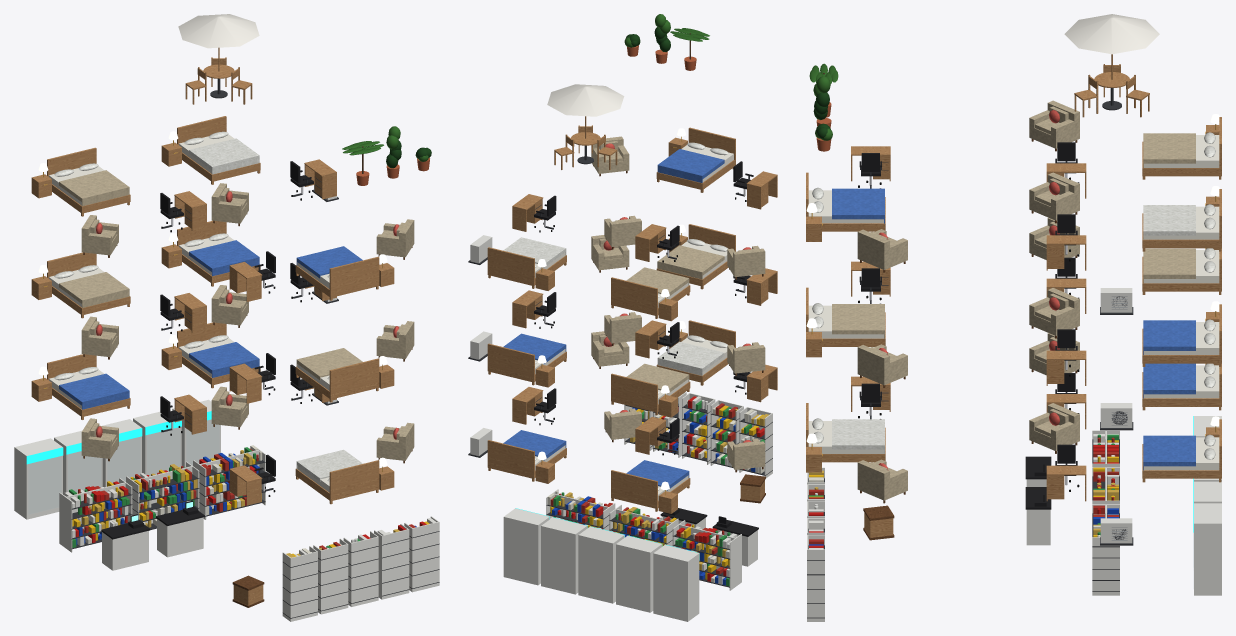
Rendered from i_kr_mart_gosiwon.gltf.
3 renders of one model, left to right at view 1: azimuth 30°, elevation 25°; view 2: azimuth 150°, elevation 25°; view 3: azimuth 270°, elevation 25°, orthographic. The views are drawn at different scales.
Parts seen in each view (by area): view 1: I_kr_mart_gosiwon; view 2: I_kr_mart_gosiwon; view 3: I_kr_mart_gosiwon.
Part boxes in pixels (box(x1,y1,x2,y2)): I_kr_mart_gosiwon: box(14, 14, 439, 621); I_kr_mart_gosiwon: box(468, 14, 777, 621); I_kr_mart_gosiwon: box(806, 14, 1221, 621).
Bounding box in the file's own units: 9.15 × 15.45 × 10.46.
Materials: 32 (8 with a texture image).
